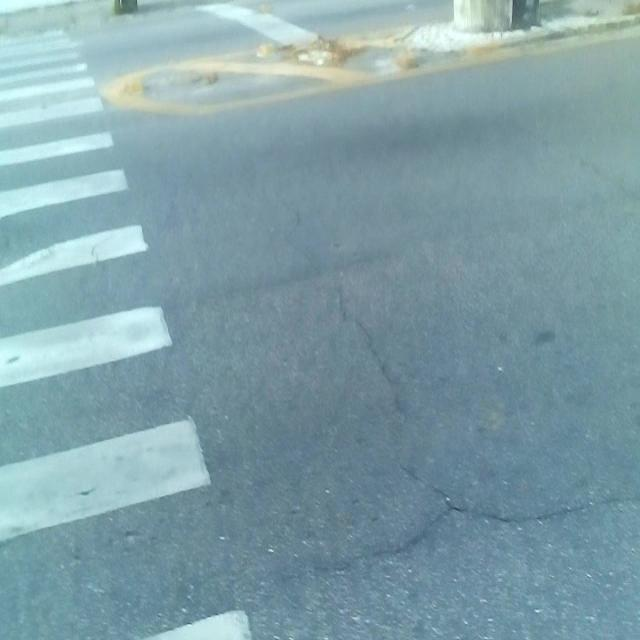crosswalk: (0, 27, 255, 640)
